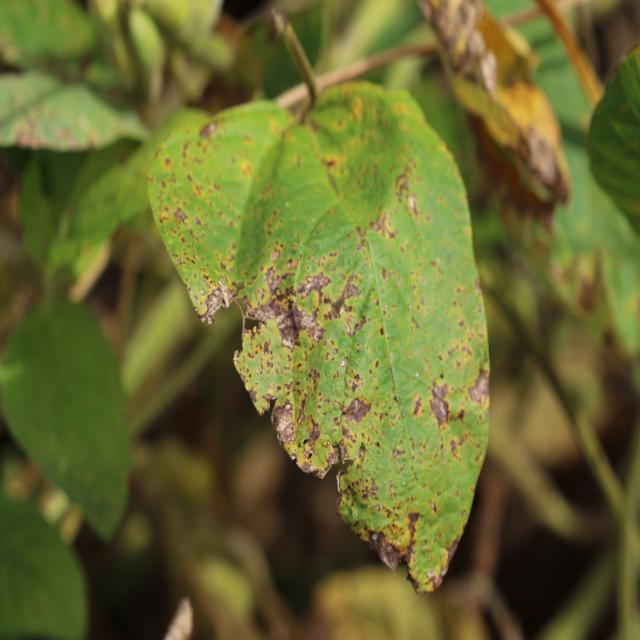Bacterial_Blight: (421, 0, 487, 75), (260, 267, 315, 348), (429, 368, 483, 434), (522, 127, 564, 195), (414, 532, 460, 587), (9, 113, 77, 150), (362, 524, 407, 573), (193, 285, 230, 327), (574, 263, 599, 314), (370, 210, 397, 240), (394, 167, 416, 203), (342, 397, 370, 425), (340, 278, 362, 302), (237, 366, 252, 395), (335, 467, 348, 495), (297, 455, 316, 474), (199, 120, 218, 138), (353, 314, 368, 334), (406, 510, 420, 531), (172, 205, 188, 223), (412, 395, 425, 417), (323, 155, 339, 170), (392, 443, 405, 461), (285, 257, 297, 270), (272, 248, 280, 263), (233, 349, 241, 363)
Soybean: (148, 83, 489, 591)
